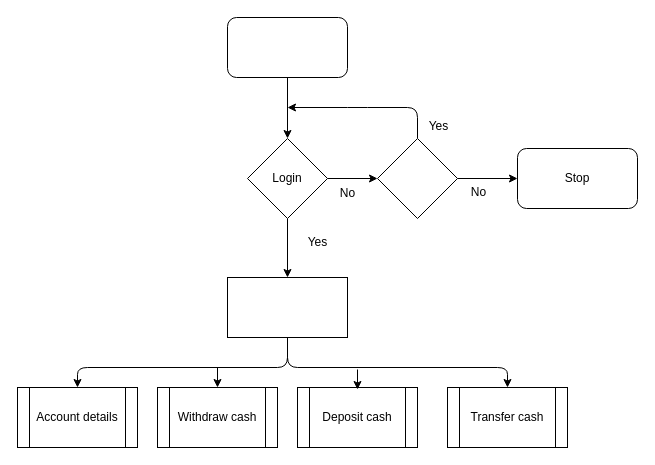
Some shapes in this 655 by 465 pixel diagram are drawn without their labels. The box of each missing label's shape, as (x1, y1, x2, y2) in pixels:
Dashboard: (226, 276, 348, 338)
Register: (376, 138, 458, 218)
Start: (226, 16, 348, 78)
